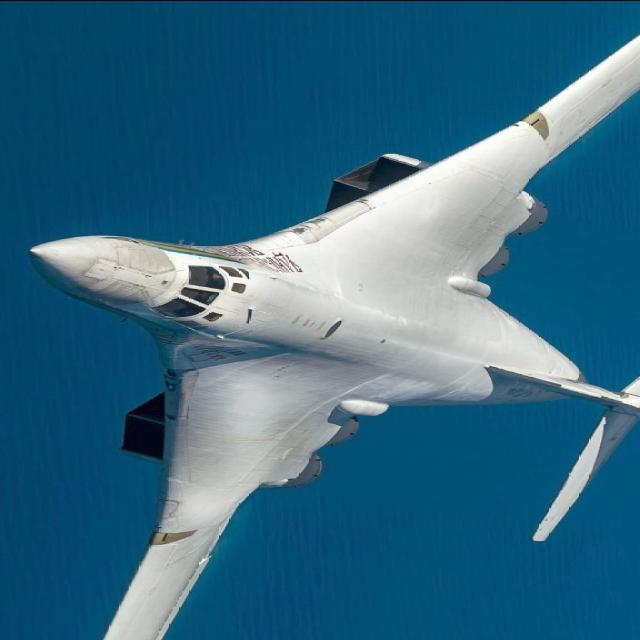Tu160: (17, 21, 640, 640)
